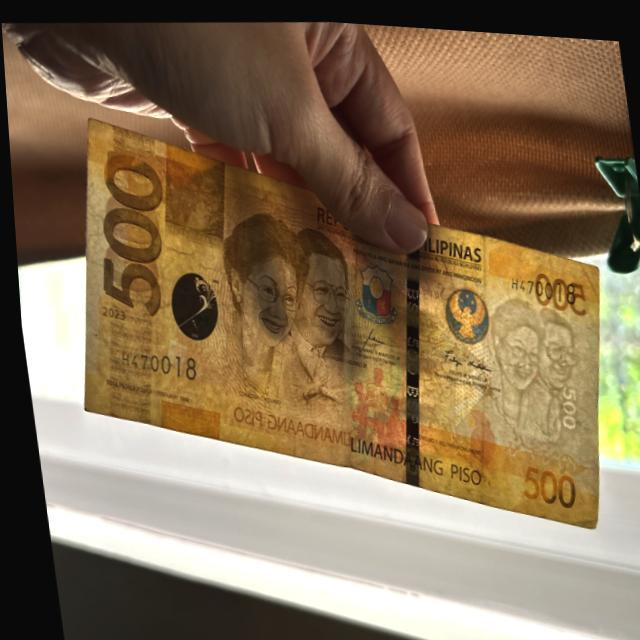concealed_value: (152, 146, 232, 239)
optically_variable_device: (165, 270, 220, 340)
value_watermark: (544, 370, 580, 426)
watermark: (474, 280, 590, 452)
